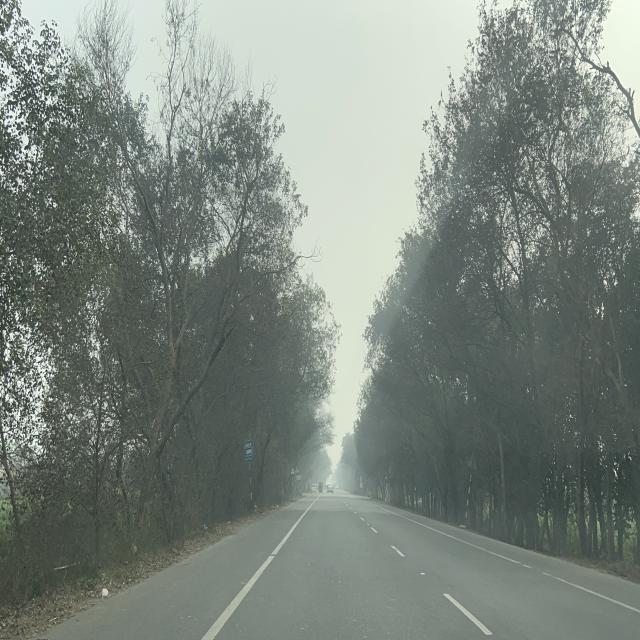INFORMATION: (243, 439, 254, 461)
